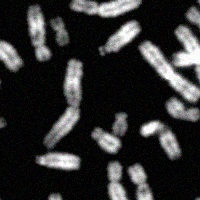chromosome: (138, 41, 200, 102), (43, 59, 82, 149), (175, 26, 200, 116), (140, 120, 181, 161), (98, 20, 140, 58), (69, 0, 142, 18), (27, 4, 50, 61), (172, 23, 200, 67), (128, 162, 154, 200), (107, 161, 130, 200), (0, 35, 24, 72), (0, 167, 26, 200), (34, 152, 79, 170), (166, 97, 200, 120), (90, 127, 121, 152), (50, 16, 70, 45), (185, 6, 200, 31), (112, 112, 127, 135), (0, 116, 7, 147), (44, 192, 64, 200), (180, 198, 200, 200), (198, 0, 200, 10)
